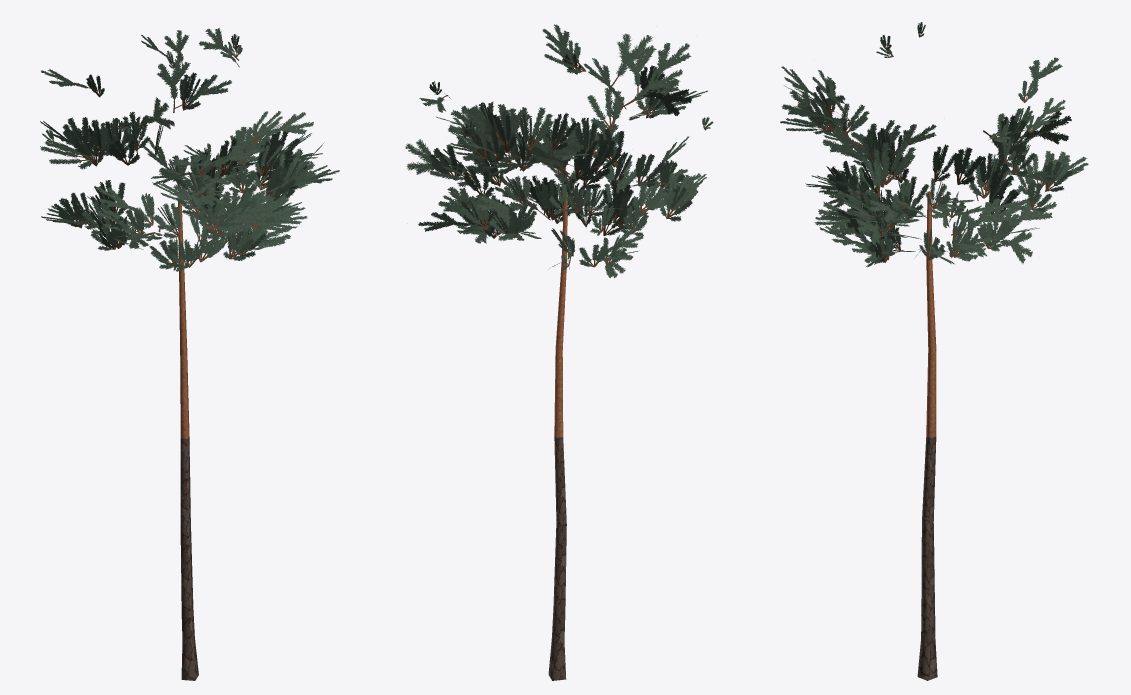
The model's file is pine_c_LOD2.glb.
3 views of the same model, side by side, from view 1: azimuth 30°, elevation 25°; view 2: azimuth 150°, elevation 25°; view 3: azimuth 270°, elevation 25° (orthographic).
Visible parts, largest first — view 1: Pine_C_LOD2_Foliage, Pine_C_LOD2_Bark; view 2: Pine_C_LOD2_Foliage, Pine_C_LOD2_Bark; view 3: Pine_C_LOD2_Foliage, Pine_C_LOD2_Bark.
Part boxes in pixels (<box>): Pine_C_LOD2_Foliage: <box>40,27,339,271</box>; Pine_C_LOD2_Bark: <box>178,197,198,680</box>; Pine_C_LOD2_Foliage: <box>405,24,713,278</box>; Pine_C_LOD2_Bark: <box>548,191,567,680</box>; Pine_C_LOD2_Foliage: <box>780,22,1088,267</box>; Pine_C_LOD2_Bark: <box>917,191,937,680</box>.
Size of the model in its own units: 11.92 by 22.47 by 12.1.
Materials: 2 (2 with a texture image).
